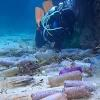Plastic: (45, 69, 86, 86), (2, 73, 34, 87)
